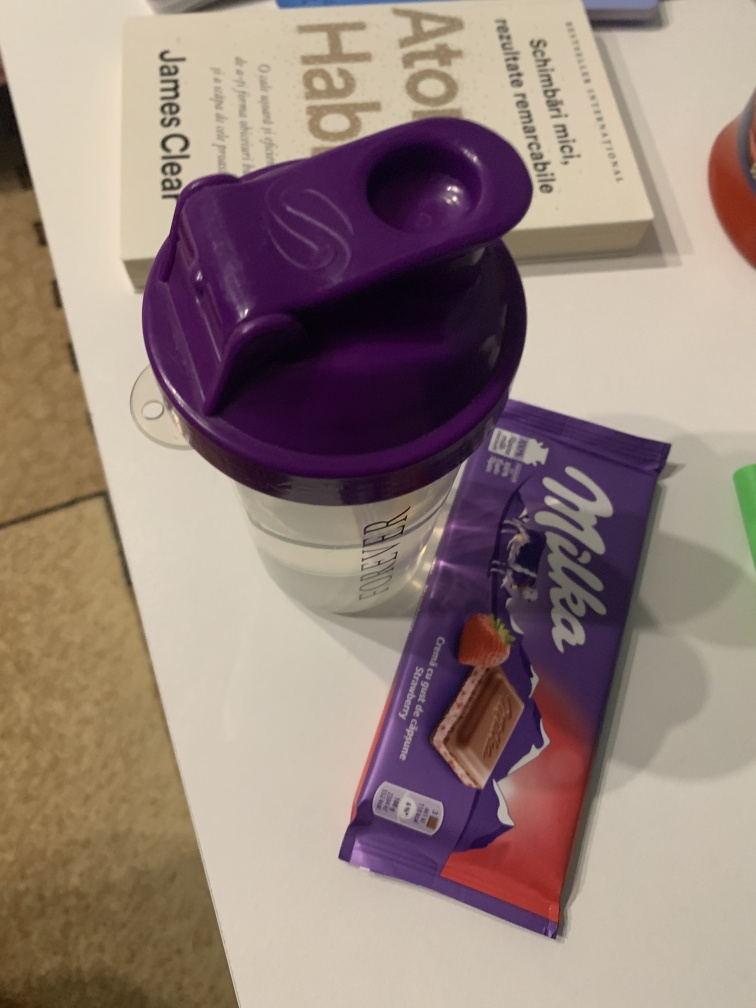milka: (312, 387, 688, 970)
